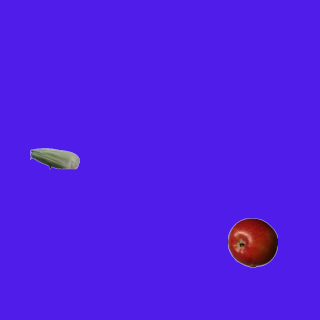Apple Braeburn: (227, 217, 277, 267)
Corn Husk: (29, 133, 79, 183)
